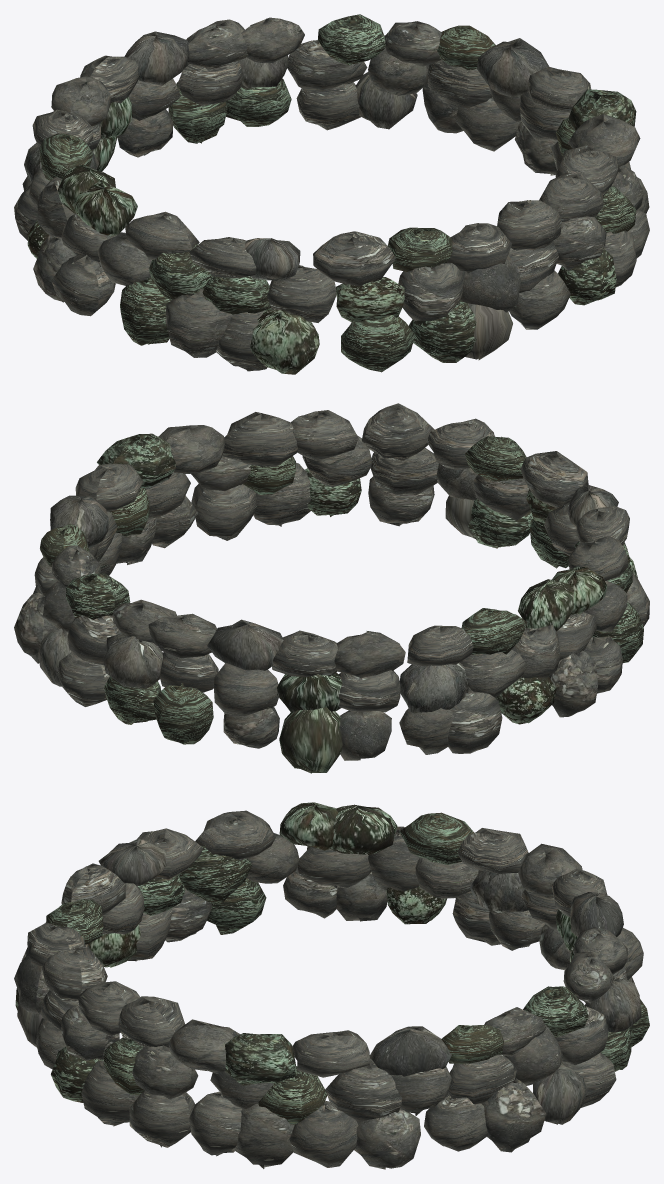
Rendered from lm_spring_kerb.glb.
The picture shows the model from 3 angles, top to bottom: view 1: azimuth 30°, elevation 25°; view 2: azimuth 150°, elevation 25°; view 3: azimuth 270°, elevation 25°; orthographic projection.
Visible parts, largest first — view 1: lm_spring_kerb; view 2: lm_spring_kerb; view 3: lm_spring_kerb.
Part boxes in pixels (bbox=[...]): lm_spring_kerb: bbox=[14, 14, 649, 374]; lm_spring_kerb: bbox=[14, 403, 649, 773]; lm_spring_kerb: bbox=[14, 802, 649, 1169].
Size of the model in its own units: 6.79 by 1.56 by 6.71.
1 material, 1 textured.
